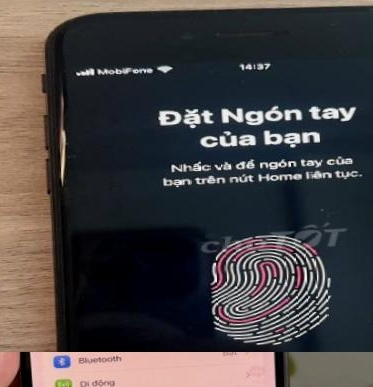scratch: (321, 0, 373, 36)
screen_defect: (42, 80, 81, 186)
